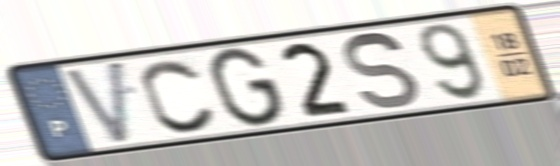2: (279, 40, 353, 119)
9: (414, 21, 490, 103)
C: (138, 57, 221, 135)
G: (206, 45, 288, 130)
S: (341, 29, 423, 112)
V: (59, 56, 131, 148)
